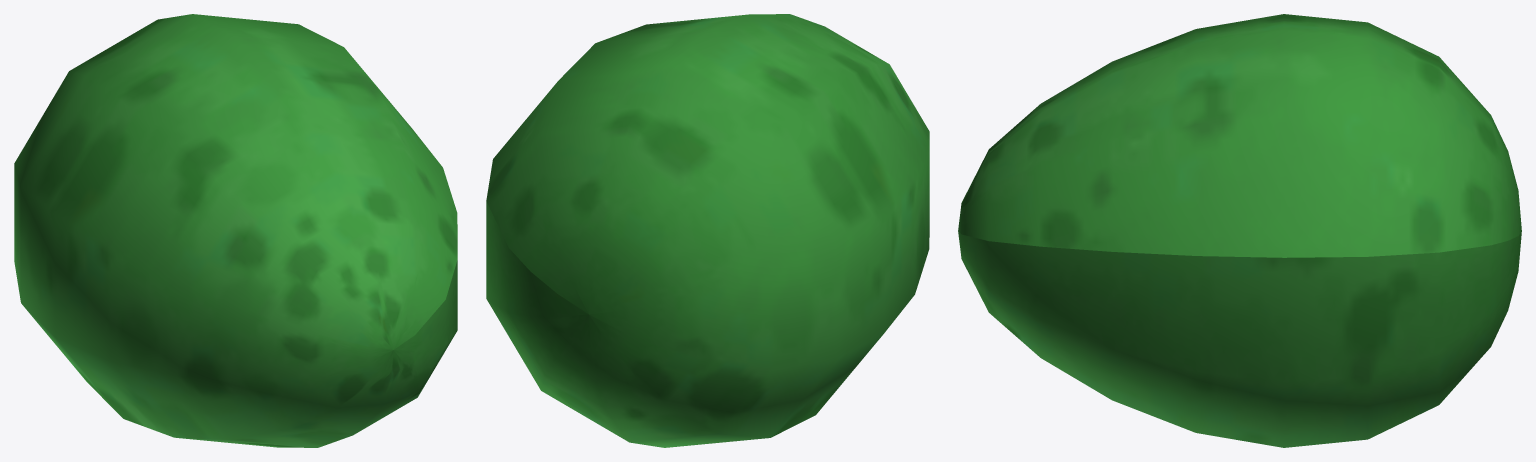
Rendered from huevo_6.fbx.
3 renders of one model, left to right at view 1: azimuth 30°, elevation 25°; view 2: azimuth 150°, elevation 25°; view 3: azimuth 270°, elevation 25°, orthographic.
Parts seen in each view (by area): view 1: s4studio_mesh_0; view 2: s4studio_mesh_0; view 3: s4studio_mesh_0.
Part boxes in pixels (x1,y1,x2,y2): s4studio_mesh_0: [14, 14, 457, 447]; s4studio_mesh_0: [486, 14, 929, 447]; s4studio_mesh_0: [958, 14, 1521, 447].
Bounding box in the file's own units: 5.59 × 5.88 × 7.5.
Materials: 1 (1 with a texture image).
